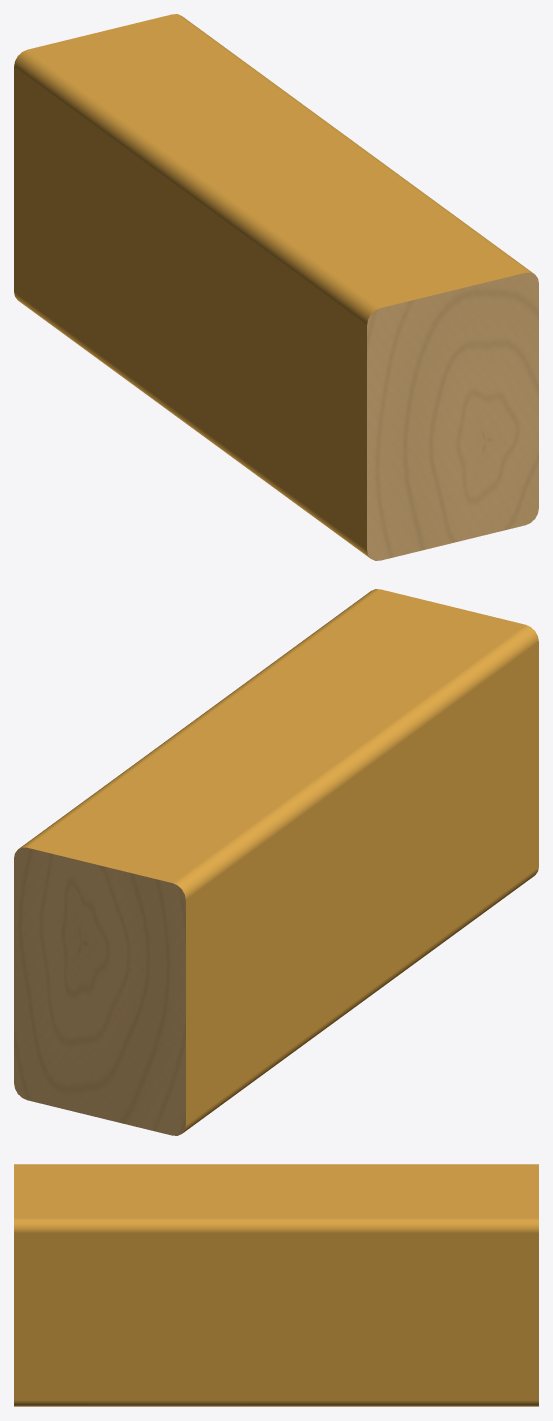
Rendered from play-coral-block-yellow.glb.
3 renders of one model, top to bottom at view 1: azimuth 30°, elevation 25°; view 2: azimuth 150°, elevation 25°; view 3: azimuth 270°, elevation 25°, orthographic. The views are drawn at different scales.
Parts seen in each view (by area): view 1: Block_Painted_Body, Block_Paint_Top, Block_Wood_End_Front; view 2: Block_Painted_Body, Block_Paint_Top, Block_Wood_End_Back; view 3: Block_Paint_Left, Block_Paint_Top, Block_Paint_Bottom.
Part boxes in pixels (box(x1,y1,x2,y2)): Block_Painted_Body: box(14, 56, 370, 558); Block_Paint_Top: box(18, 14, 533, 314); Block_Wood_End_Front: box(367, 272, 538, 560); Block_Painted_Body: box(182, 631, 538, 1133); Block_Paint_Top: box(19, 589, 534, 889); Block_Wood_End_Back: box(14, 847, 185, 1135); Block_Paint_Left: box(14, 1224, 538, 1405); Block_Paint_Top: box(14, 1164, 538, 1224); Block_Paint_Bottom: box(14, 1406, 538, 1406).
Size of the model in its own units: 0.052 by 0.073 by 0.185.
2 materials, 1 textured.
